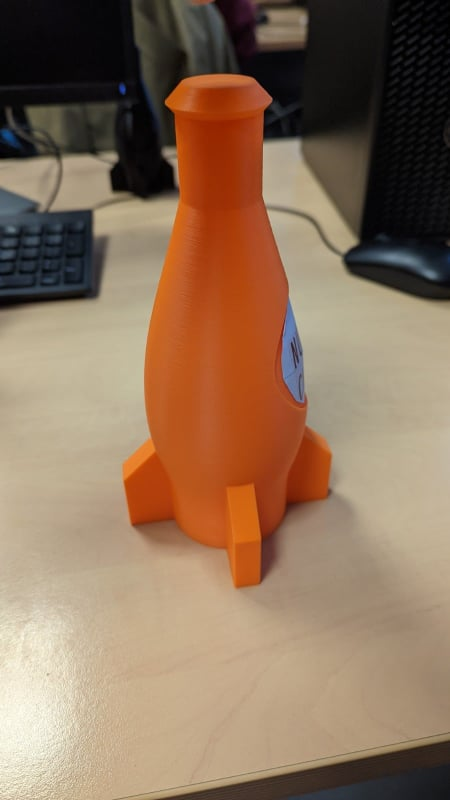bottle: (116, 70, 344, 597)
